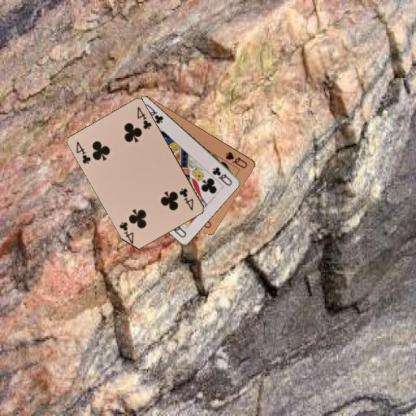4c: (177, 186, 195, 212), (74, 139, 92, 165)
Qc: (210, 165, 233, 187)
Qs: (223, 149, 249, 169)
